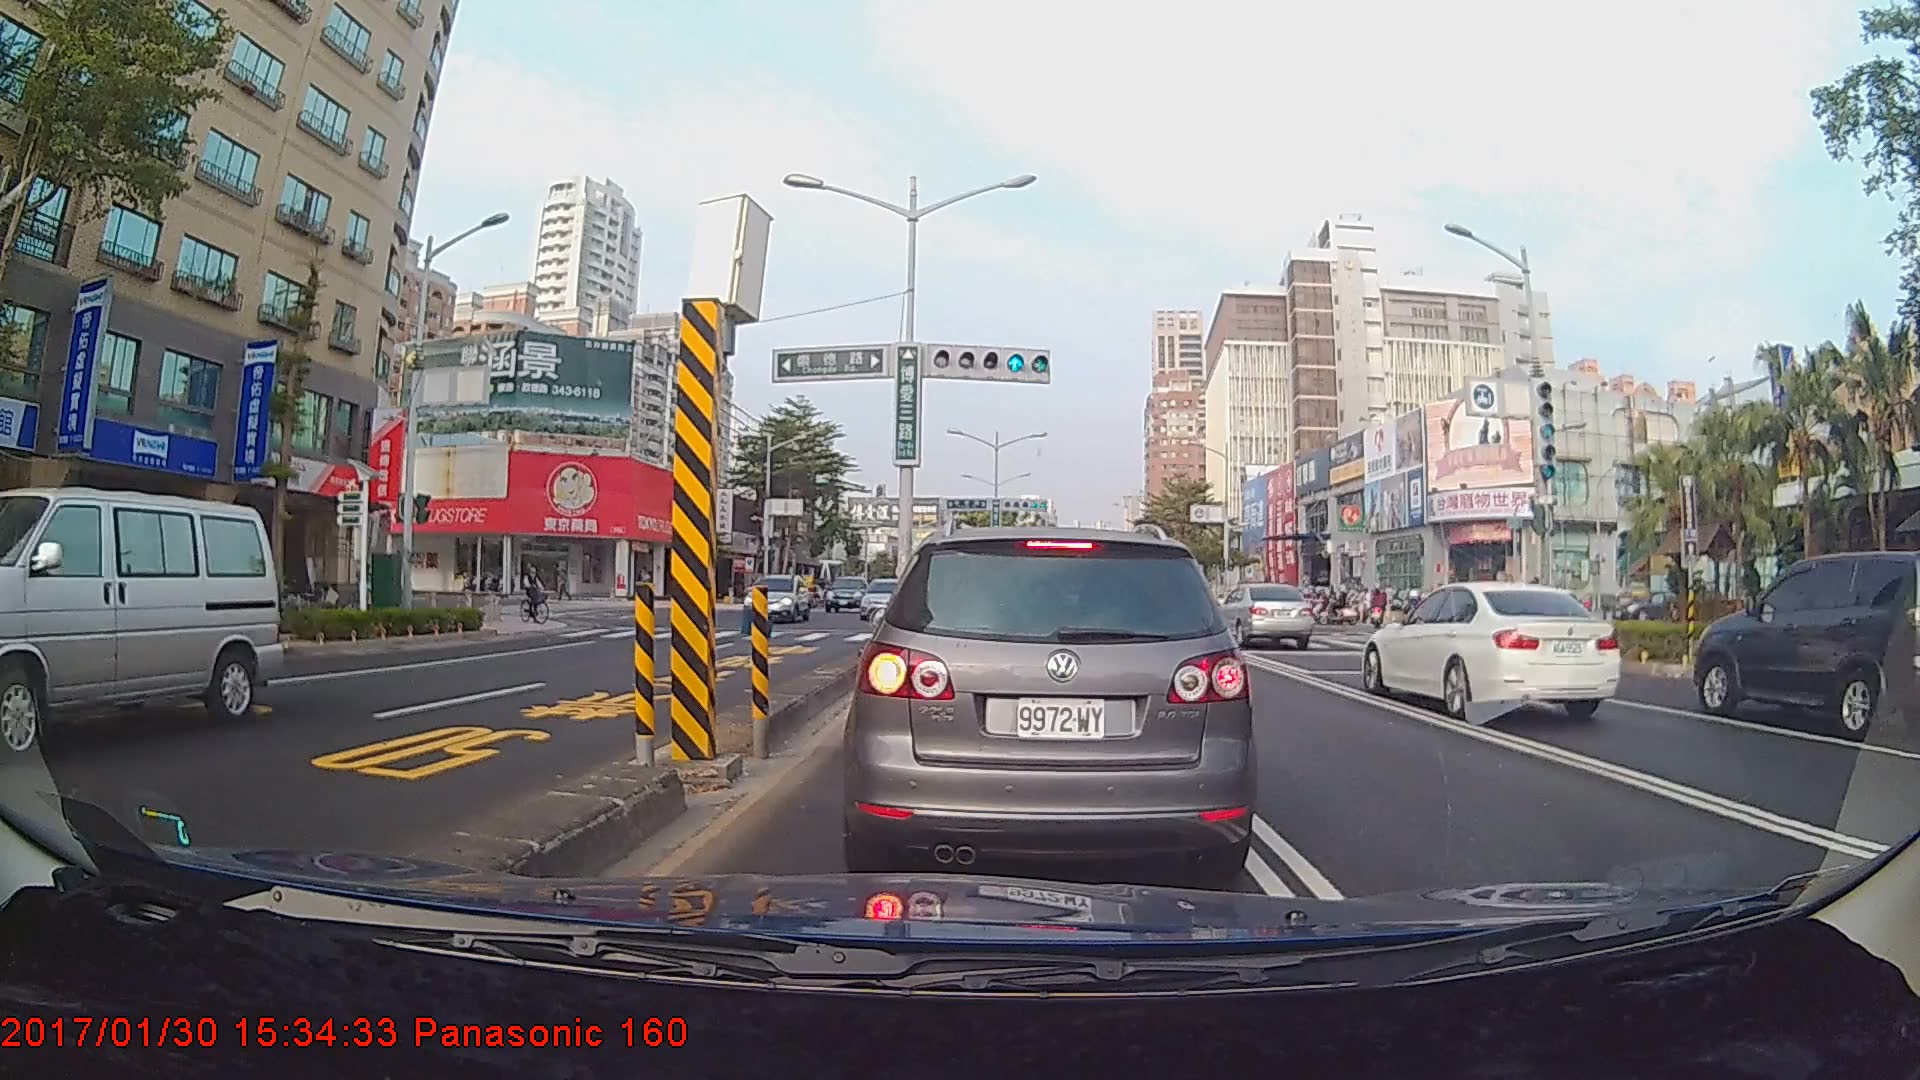rider: (518, 559, 561, 629)
vehicle: (856, 523, 1252, 874), (0, 484, 281, 761), (1693, 552, 1919, 739), (1356, 580, 1623, 724), (1208, 580, 1314, 650), (740, 573, 810, 623), (859, 576, 916, 620), (824, 576, 869, 613)
